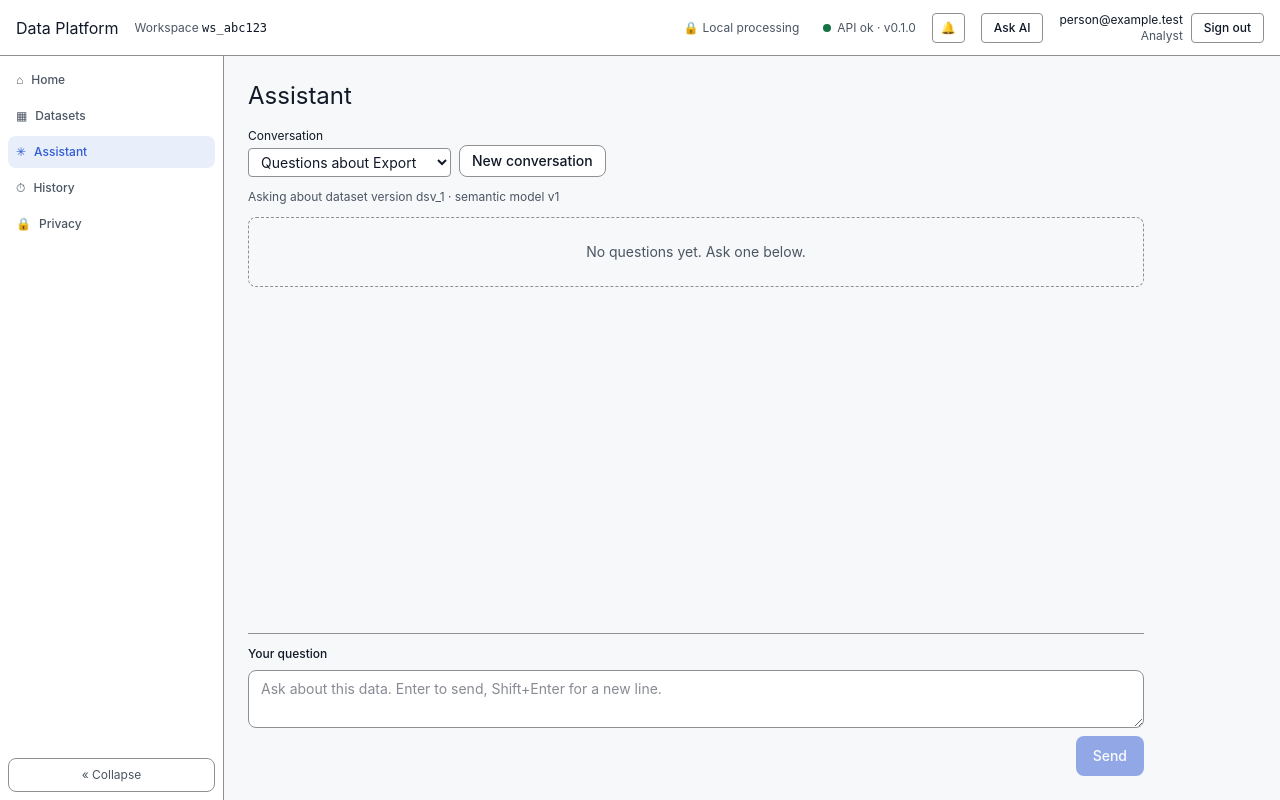
AI chat › streams a validated answer whose number opens the evidence drawer in one click
This screenshot has width=1280, height=800.
Type "How did it change?" into the text box labelled "Your question" at (696, 699), box [248, 670, 1144, 728]
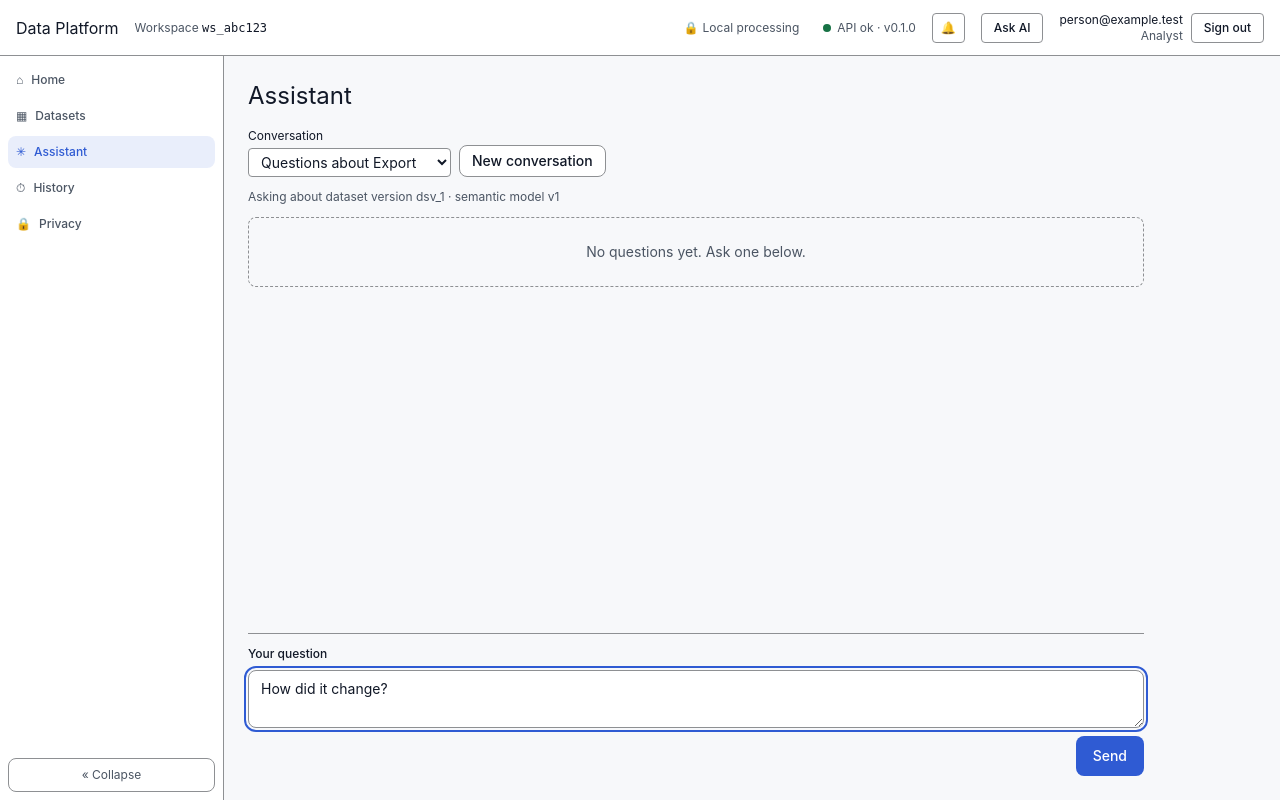
Click the button "Send" at (1110, 756), box [1076, 736, 1144, 776]
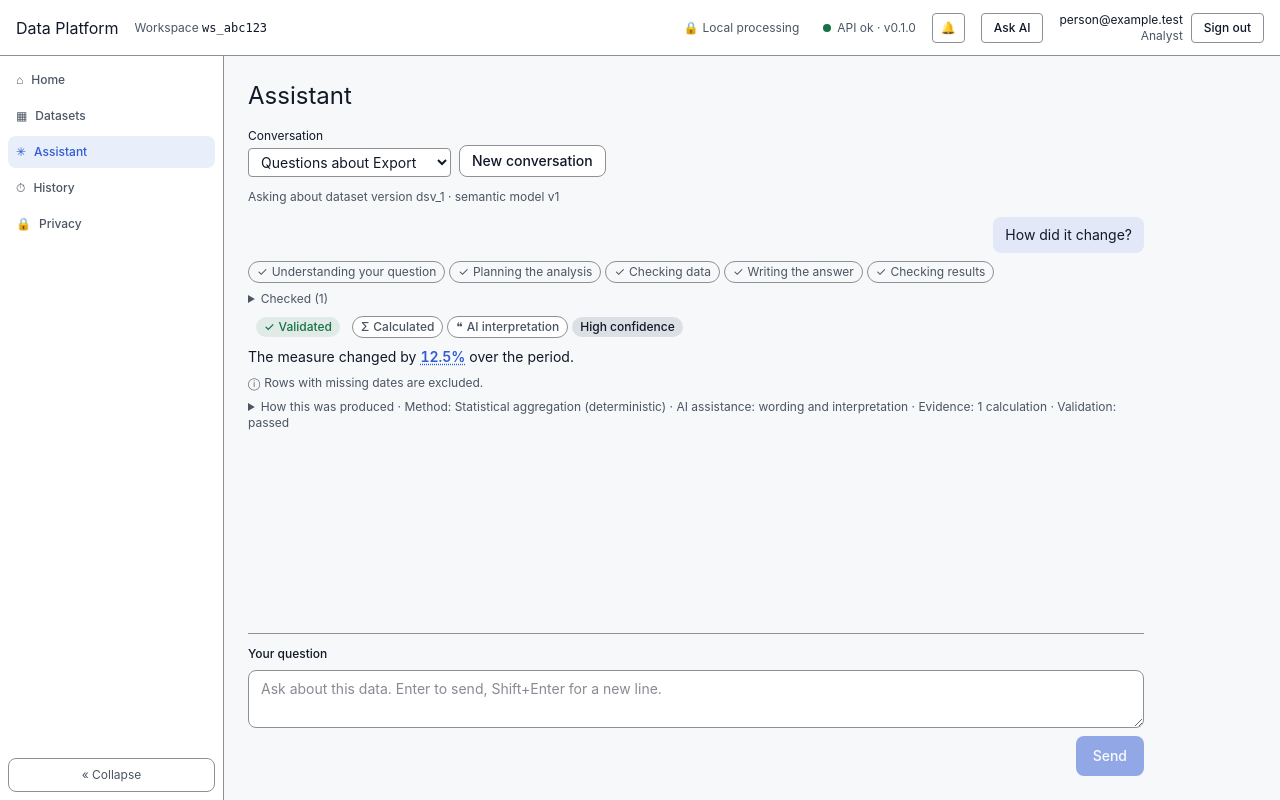
expect the text "Validated" is shown: met, box [279, 319, 332, 334]
expect the list item "Checking results" is shown: met, box [890, 264, 985, 279]
expect the text "Calculated" is shown: met, box [373, 319, 434, 334]
Click the button named "Evidence for 12.5%" at (443, 357), box [420, 347, 465, 367]
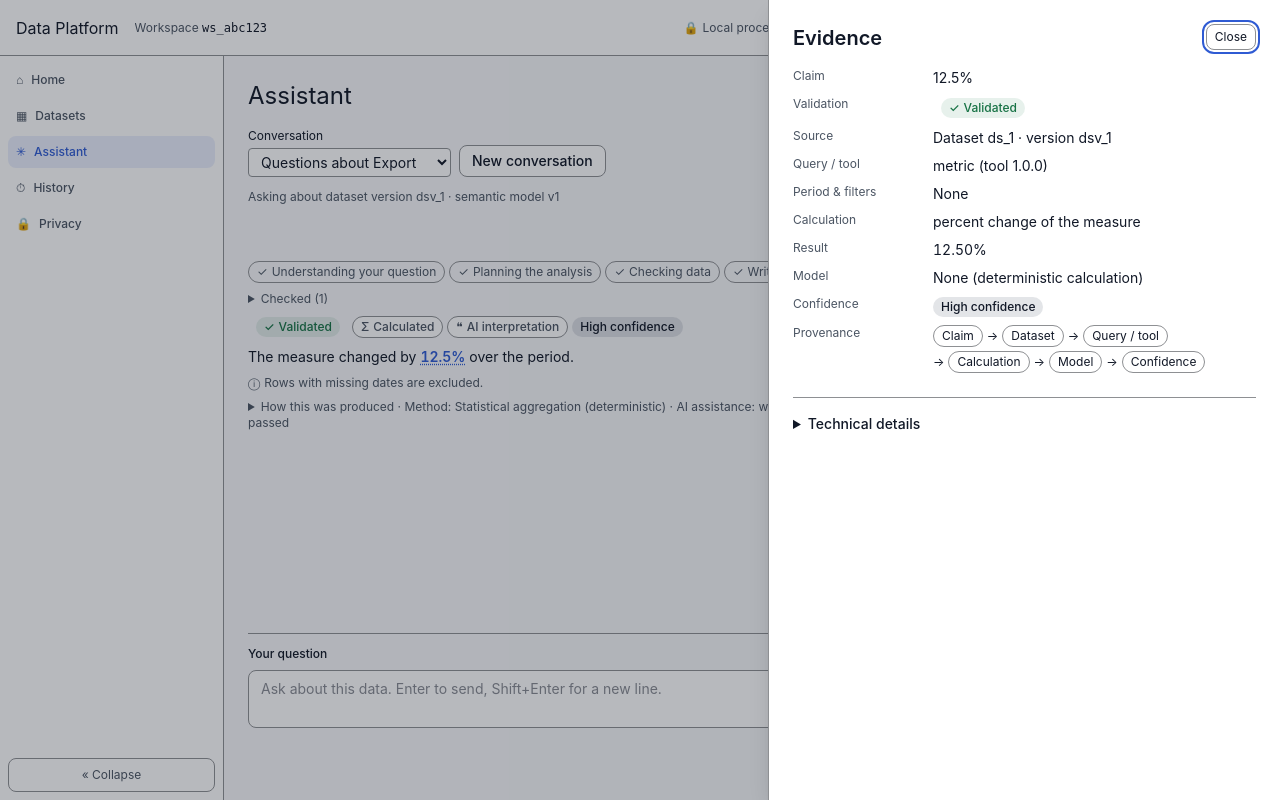
expect the text "percent change of the measure" is shown: met, box [933, 213, 1141, 230]
